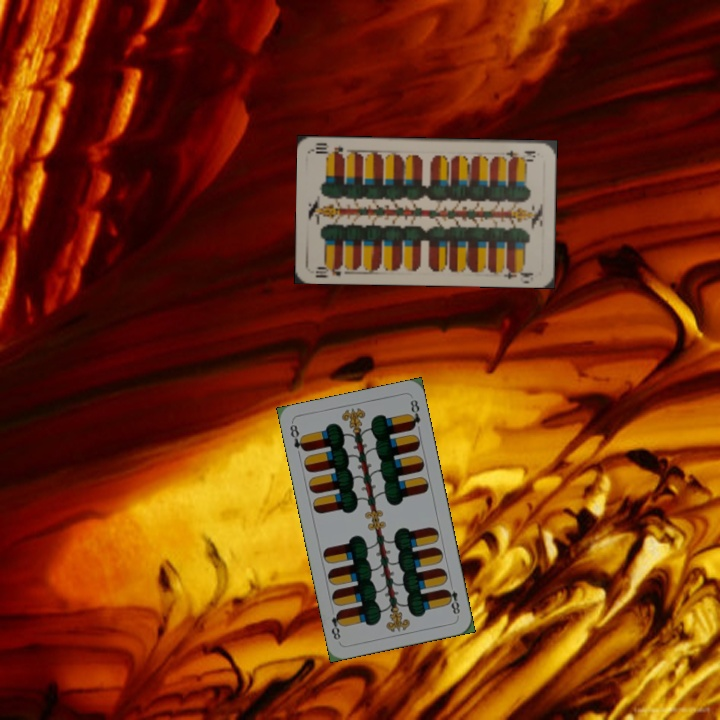E10: (311, 260, 350, 279), (502, 146, 538, 162)
E8: (441, 579, 462, 619), (286, 420, 309, 454)
